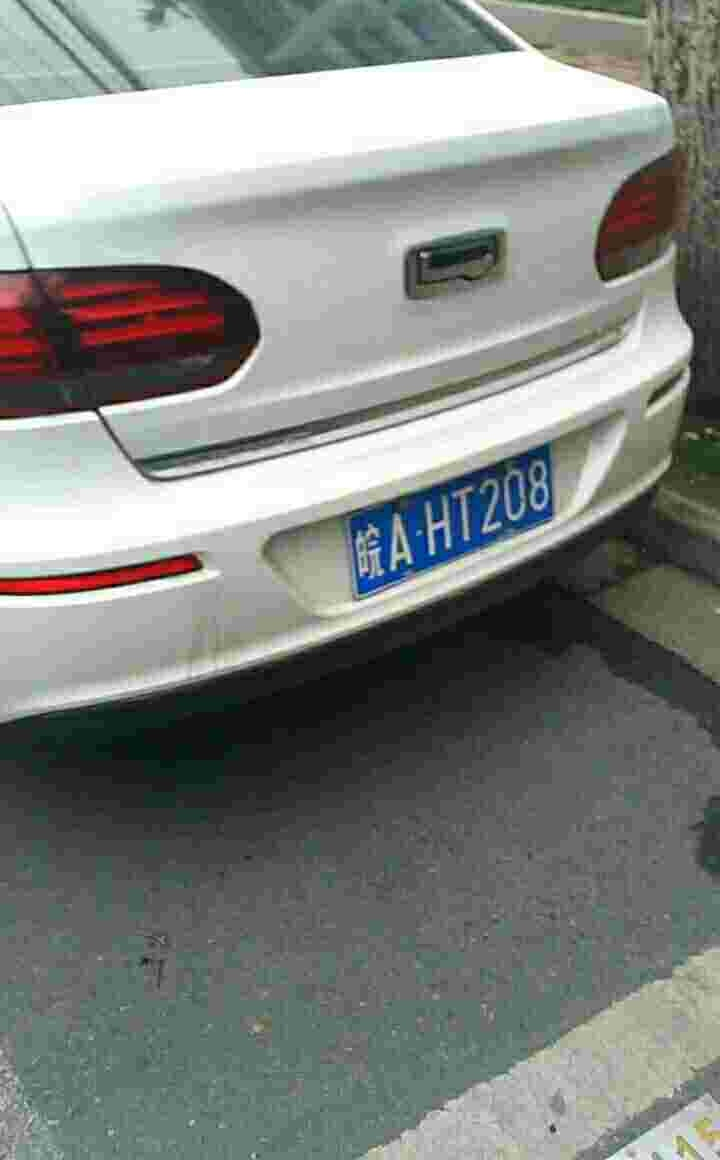license_plate: (346, 444, 560, 601)
